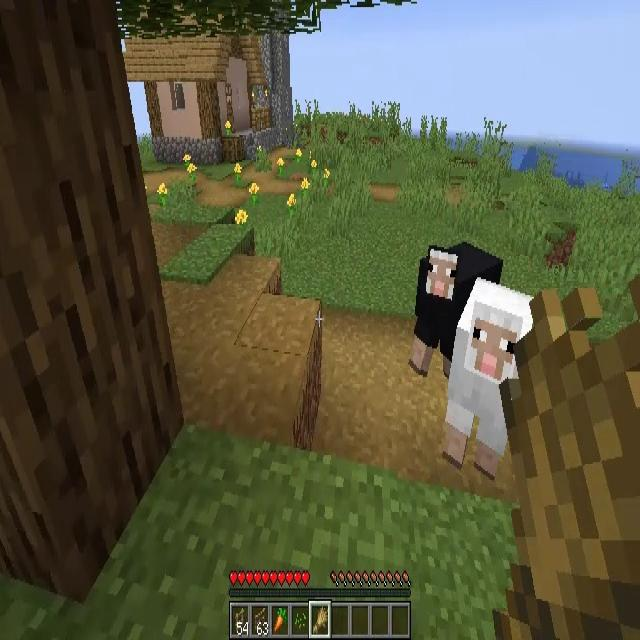sheep: (443, 278, 541, 476), (417, 238, 501, 374)
